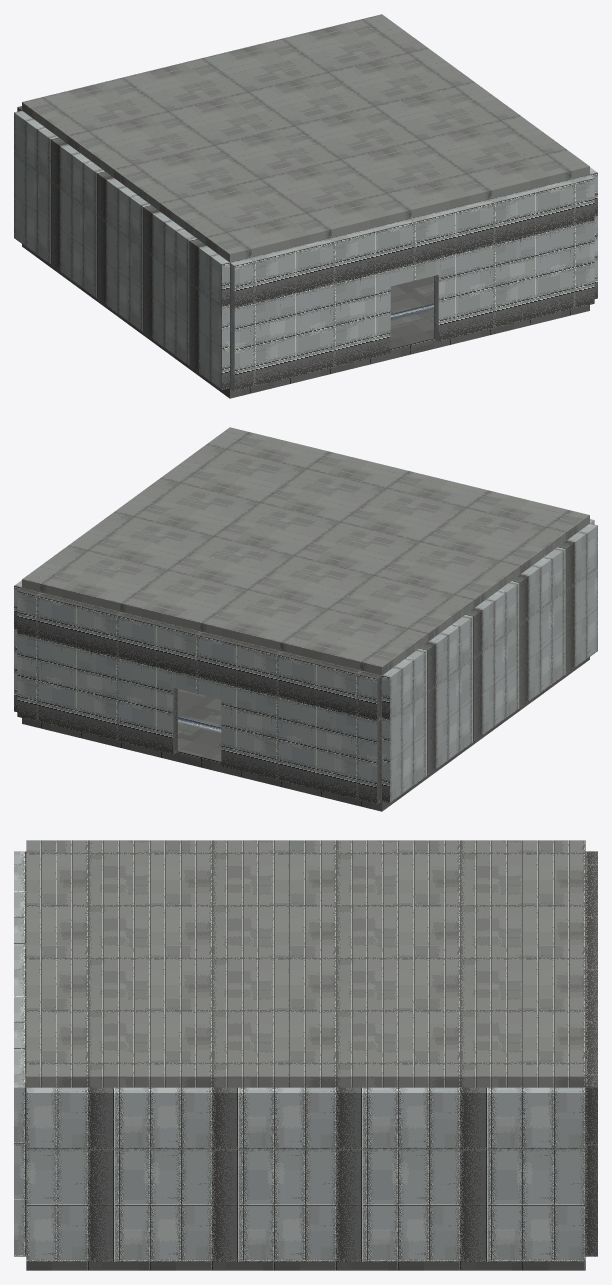
File: shell_arena_pit.glb
The picture shows the model from 3 angles, top to bottom: view 1: azimuth 30°, elevation 25°; view 2: azimuth 150°, elevation 25°; view 3: azimuth 270°, elevation 25°; orthographic projection. The views are drawn at different scales.
Visible parts, largest first — view 1: shell_arena_pit; view 2: shell_arena_pit; view 3: shell_arena_pit.
Boxes of the visible parts, <box> form: shell_arena_pit: <box>14,14,597,398</box>; shell_arena_pit: <box>14,427,597,811</box>; shell_arena_pit: <box>14,840,597,1270</box>.
Bounding box in the file's own units: 18.8 × 7.9 × 18.8.
Materials: 26 (26 with a texture image).
